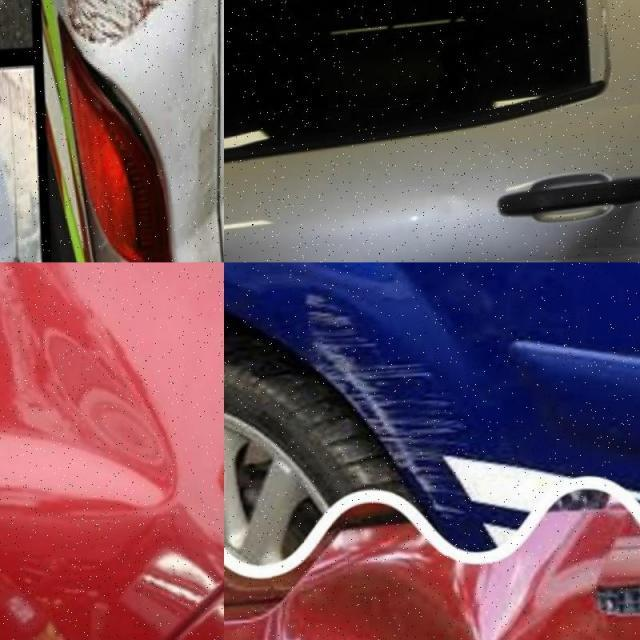car damage: (0, 530, 640, 581), (0, 0, 529, 44)
